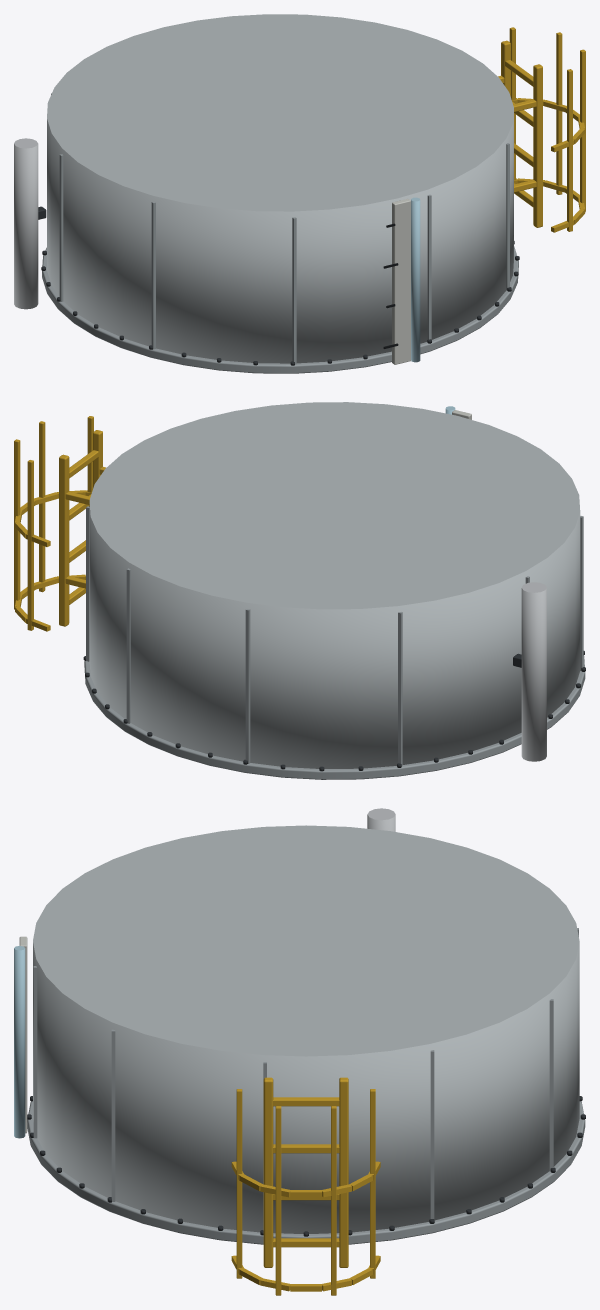
File: fy_tankringc.glb
3 renders of one model, top to bottom at view 1: azimuth 30°, elevation 25°; view 2: azimuth 150°, elevation 25°; view 3: azimuth 270°, elevation 25°, orthographic. The views are drawn at different scales.
Visible parts, largest first — view 1: cyl.001, cyl.002, cyl, block.025, cyl.043, block.012, block.022, block.024, block.023, block.006, block.005, block.004 (+2 smaller); view 2: cyl.001, cyl.002, cyl, block.011, block.021, block.023, block.022, block.008, block.009, block.007, block.010, block.005; view 3: cyl.001, cyl.002, cyl.043, block.012, block.011, block.023, block.024, block.022, block.021, block.003, block.002, block.009 (+3 smaller).
Part boxes in pixels (bbox=[...]): cyl.001: bbox=[47, 14, 513, 363]; cyl.002: bbox=[42, 246, 518, 373]; cyl: bbox=[14, 138, 38, 309]; block.025: bbox=[392, 198, 410, 364]; cyl.043: bbox=[411, 197, 420, 362]; block.012: bbox=[533, 64, 542, 227]; block.022: bbox=[556, 32, 562, 194]; block.024: bbox=[567, 69, 572, 231]; block.023: bbox=[580, 49, 585, 211]; block.006: bbox=[59, 154, 63, 301]; block.005: bbox=[151, 201, 155, 349]; block.004: bbox=[292, 217, 296, 364]; cyl.001: bbox=[89, 402, 580, 768]; cyl.002: bbox=[84, 655, 585, 779]; cyl: bbox=[521, 582, 546, 761]; block.011: bbox=[59, 454, 69, 626]; block.021: bbox=[27, 460, 33, 630]; block.023: bbox=[39, 421, 45, 592]; block.022: bbox=[14, 439, 20, 609]; block.008: bbox=[245, 609, 250, 763]; block.009: bbox=[126, 568, 130, 723]; block.007: bbox=[398, 612, 402, 765]; block.010: bbox=[86, 506, 89, 661]; block.005: bbox=[580, 516, 583, 670]; cyl.001: bbox=[33, 825, 579, 1233]; cyl.002: bbox=[27, 1101, 585, 1244]; cyl.043: bbox=[14, 945, 25, 1138]; block.012: bbox=[263, 1077, 273, 1267]; block.011: bbox=[339, 1077, 348, 1267]; block.023: bbox=[275, 1106, 281, 1295]; block.024: bbox=[236, 1089, 242, 1278]; block.022: bbox=[331, 1106, 336, 1295]; block.021: bbox=[370, 1089, 375, 1278]; block.003: bbox=[33, 966, 37, 1138]; block.002: bbox=[111, 1029, 115, 1201]; block.009: bbox=[549, 999, 553, 1171].
Bounding box in the file's own units: 3.78 × 1.1 × 3.03.
